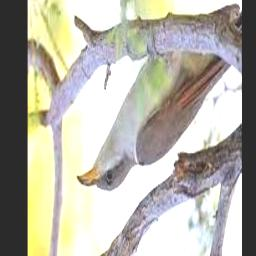Cuckoo: (78, 45, 233, 192)
